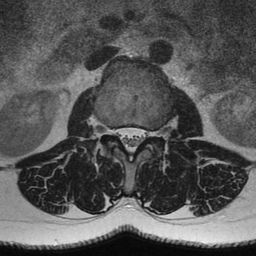CCS_normal: (126, 118, 136, 169)
LFS_stenosis: (145, 121, 157, 146)
LLS_normal: (135, 116, 145, 154)
RFS_stenosis: (106, 116, 115, 147)
RLS_normal: (116, 119, 126, 155)
